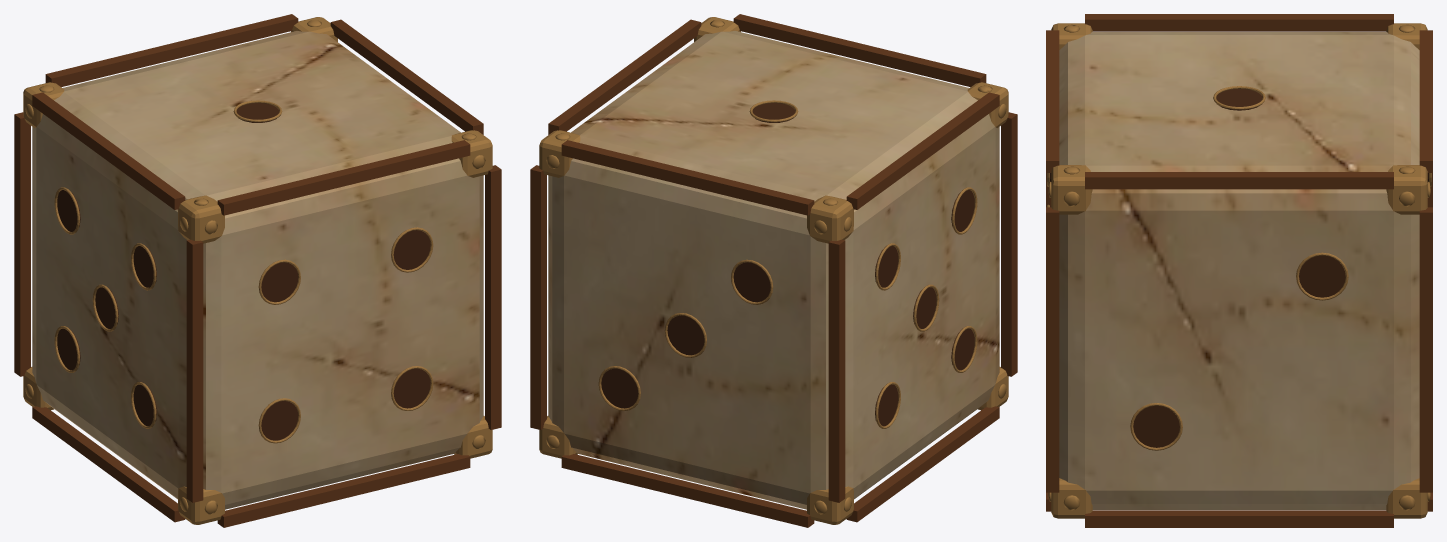
File: die-reference-brass-detail-merged-trial-v1.glb
3 views of the same model, side by side, from view 1: azimuth 30°, elevation 25°; view 2: azimuth 150°, elevation 25°; view 3: azimuth 270°, elevation 25° (orthographic). The views are drawn at different scales.
Parts seen in each view (by area): view 1: Die body, Wood edge, Brass ring, pip_1; view 2: Die body, Wood edge, Brass ring, pip_1; view 3: Die body, Wood edge, Brass ring, pip_1.
Boxes of the visible parts, box(x1,y1,x2,y2) form: Die body: box(32, 31, 483, 509); Wood edge: box(14, 14, 501, 527); Brass ring: box(23, 17, 492, 524); pip_1: box(57, 103, 430, 440); Die body: box(548, 31, 999, 509); Wood edge: box(530, 14, 1017, 527); Brass ring: box(539, 17, 1008, 524); pip_1: box(601, 103, 974, 426); Die body: box(1059, 32, 1419, 509); Wood edge: box(1046, 14, 1432, 527); Brass ring: box(1047, 23, 1431, 518); pip_1: box(1050, 89, 1428, 447).
Bounding box in the file's own units: 1.03 × 1.03 × 1.03.
4 materials, 1 textured.
